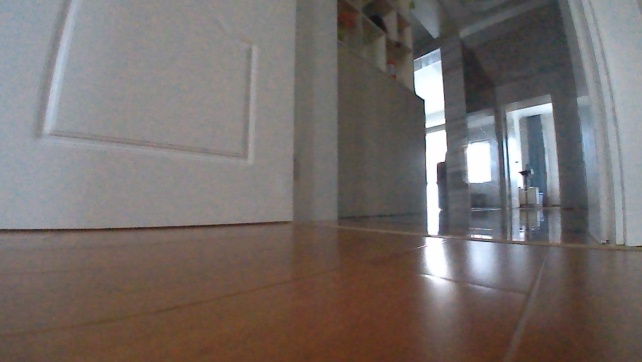door_anno: (0, 0, 307, 236)
